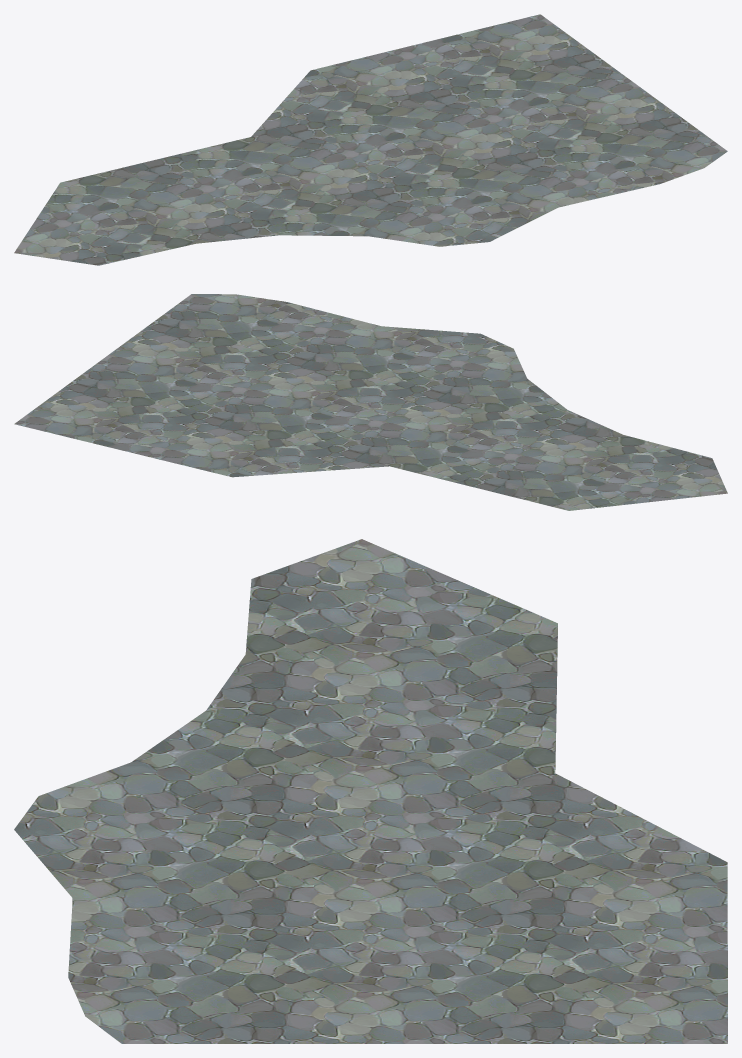
Rendered from Map_06_ground04.FBX.
3 renders of one model, top to bottom at view 1: azimuth 30°, elevation 25°; view 2: azimuth 150°, elevation 25°; view 3: azimuth 270°, elevation 25°, orthographic. The views are drawn at different scales.
Visible parts, largest first — view 1: Map_06_ground04; view 2: Map_06_ground04; view 3: Map_06_ground04.
Boxes of the visible parts, x1,y1,x2,y2 form: Map_06_ground04: [14, 14, 727, 265]; Map_06_ground04: [14, 294, 727, 510]; Map_06_ground04: [14, 539, 727, 1043].
Bounding box in the file's own units: 4695 × 0.00011 × 2806.
Materials: 1 (1 with a texture image).
